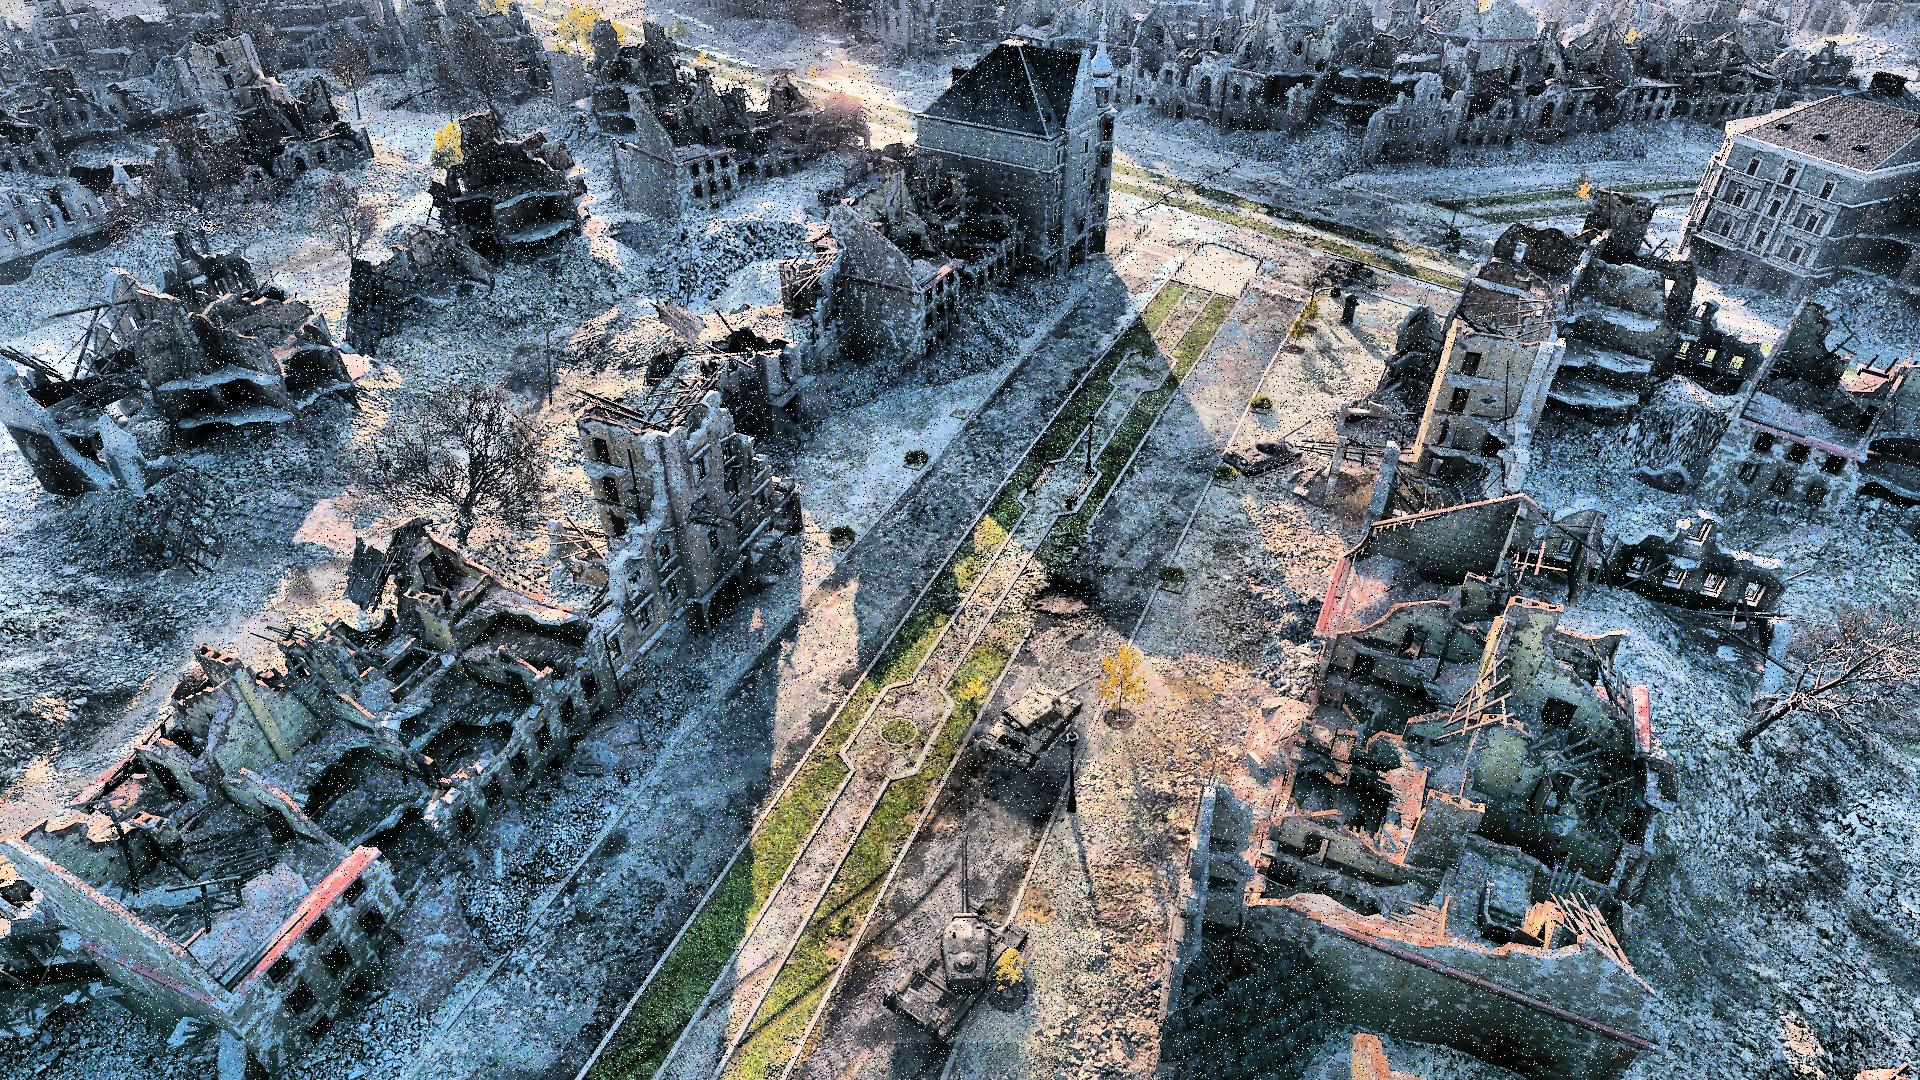military-vehicle: (885, 841, 1023, 1043), (977, 676, 1098, 771)
